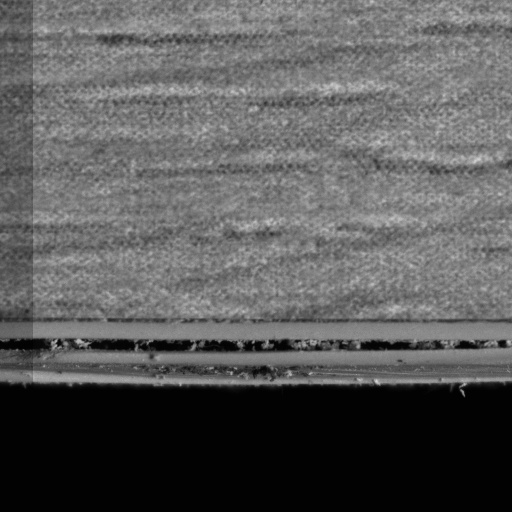kaijiao: (0, 315, 511, 389)
